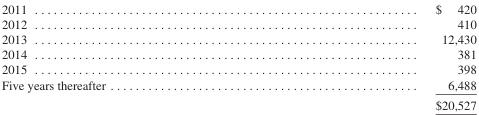table: (0, 1, 475, 111)
table column: (0, 1, 269, 111), (269, 1, 475, 111)
table row: (0, 76, 475, 94), (0, 94, 475, 111), (0, 1, 475, 16), (0, 16, 475, 31), (0, 31, 475, 46), (0, 46, 475, 61), (0, 61, 475, 76)
